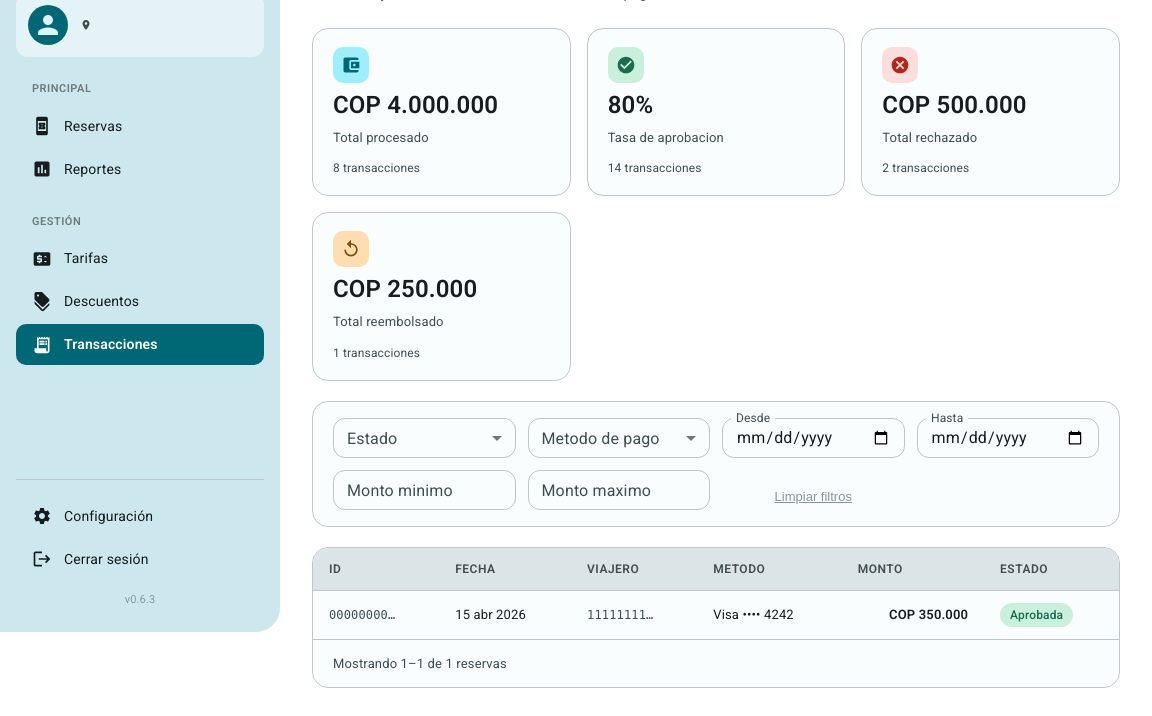
Scenario: TransactionsPage › opens the detail drawer when a row is clicked
(page scrolled)
Expected: the text "00000000-0000-0000-0000-000000000001" is not shown
Click the text "Visa •••• 4242".
click(770, 614)  # box [697, 590, 842, 639]
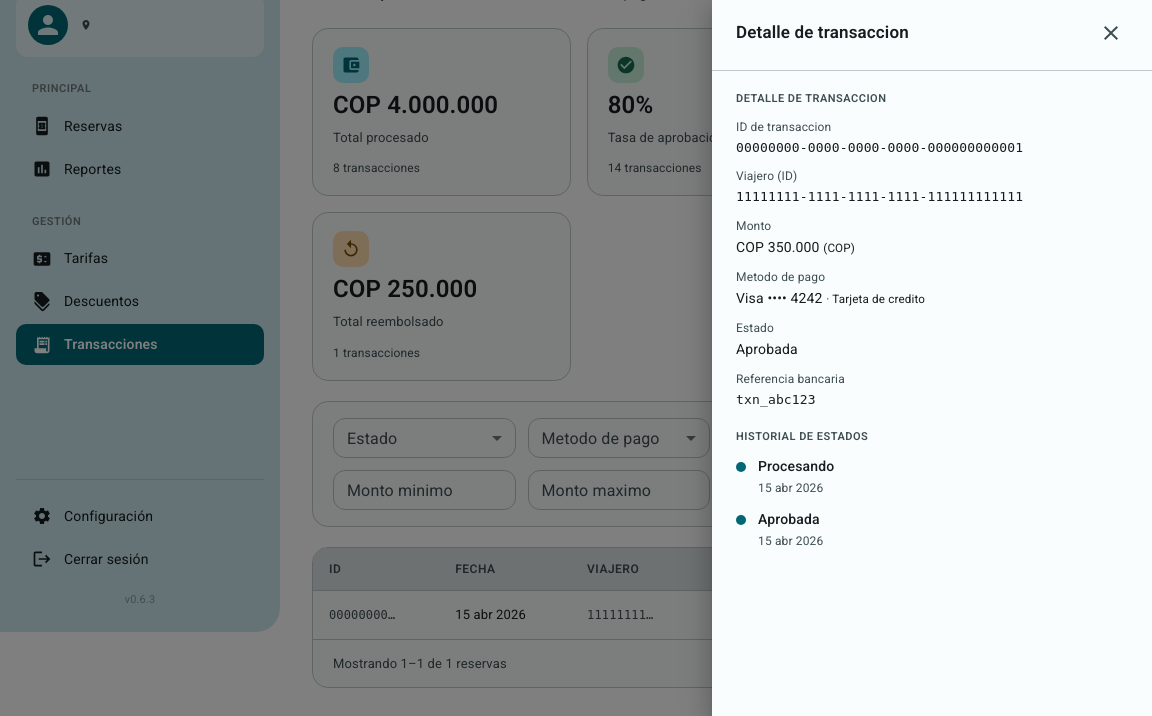
Result: the text "00000000-0000-0000-0000-000000000001" is shown at [736, 140, 1023, 154]
